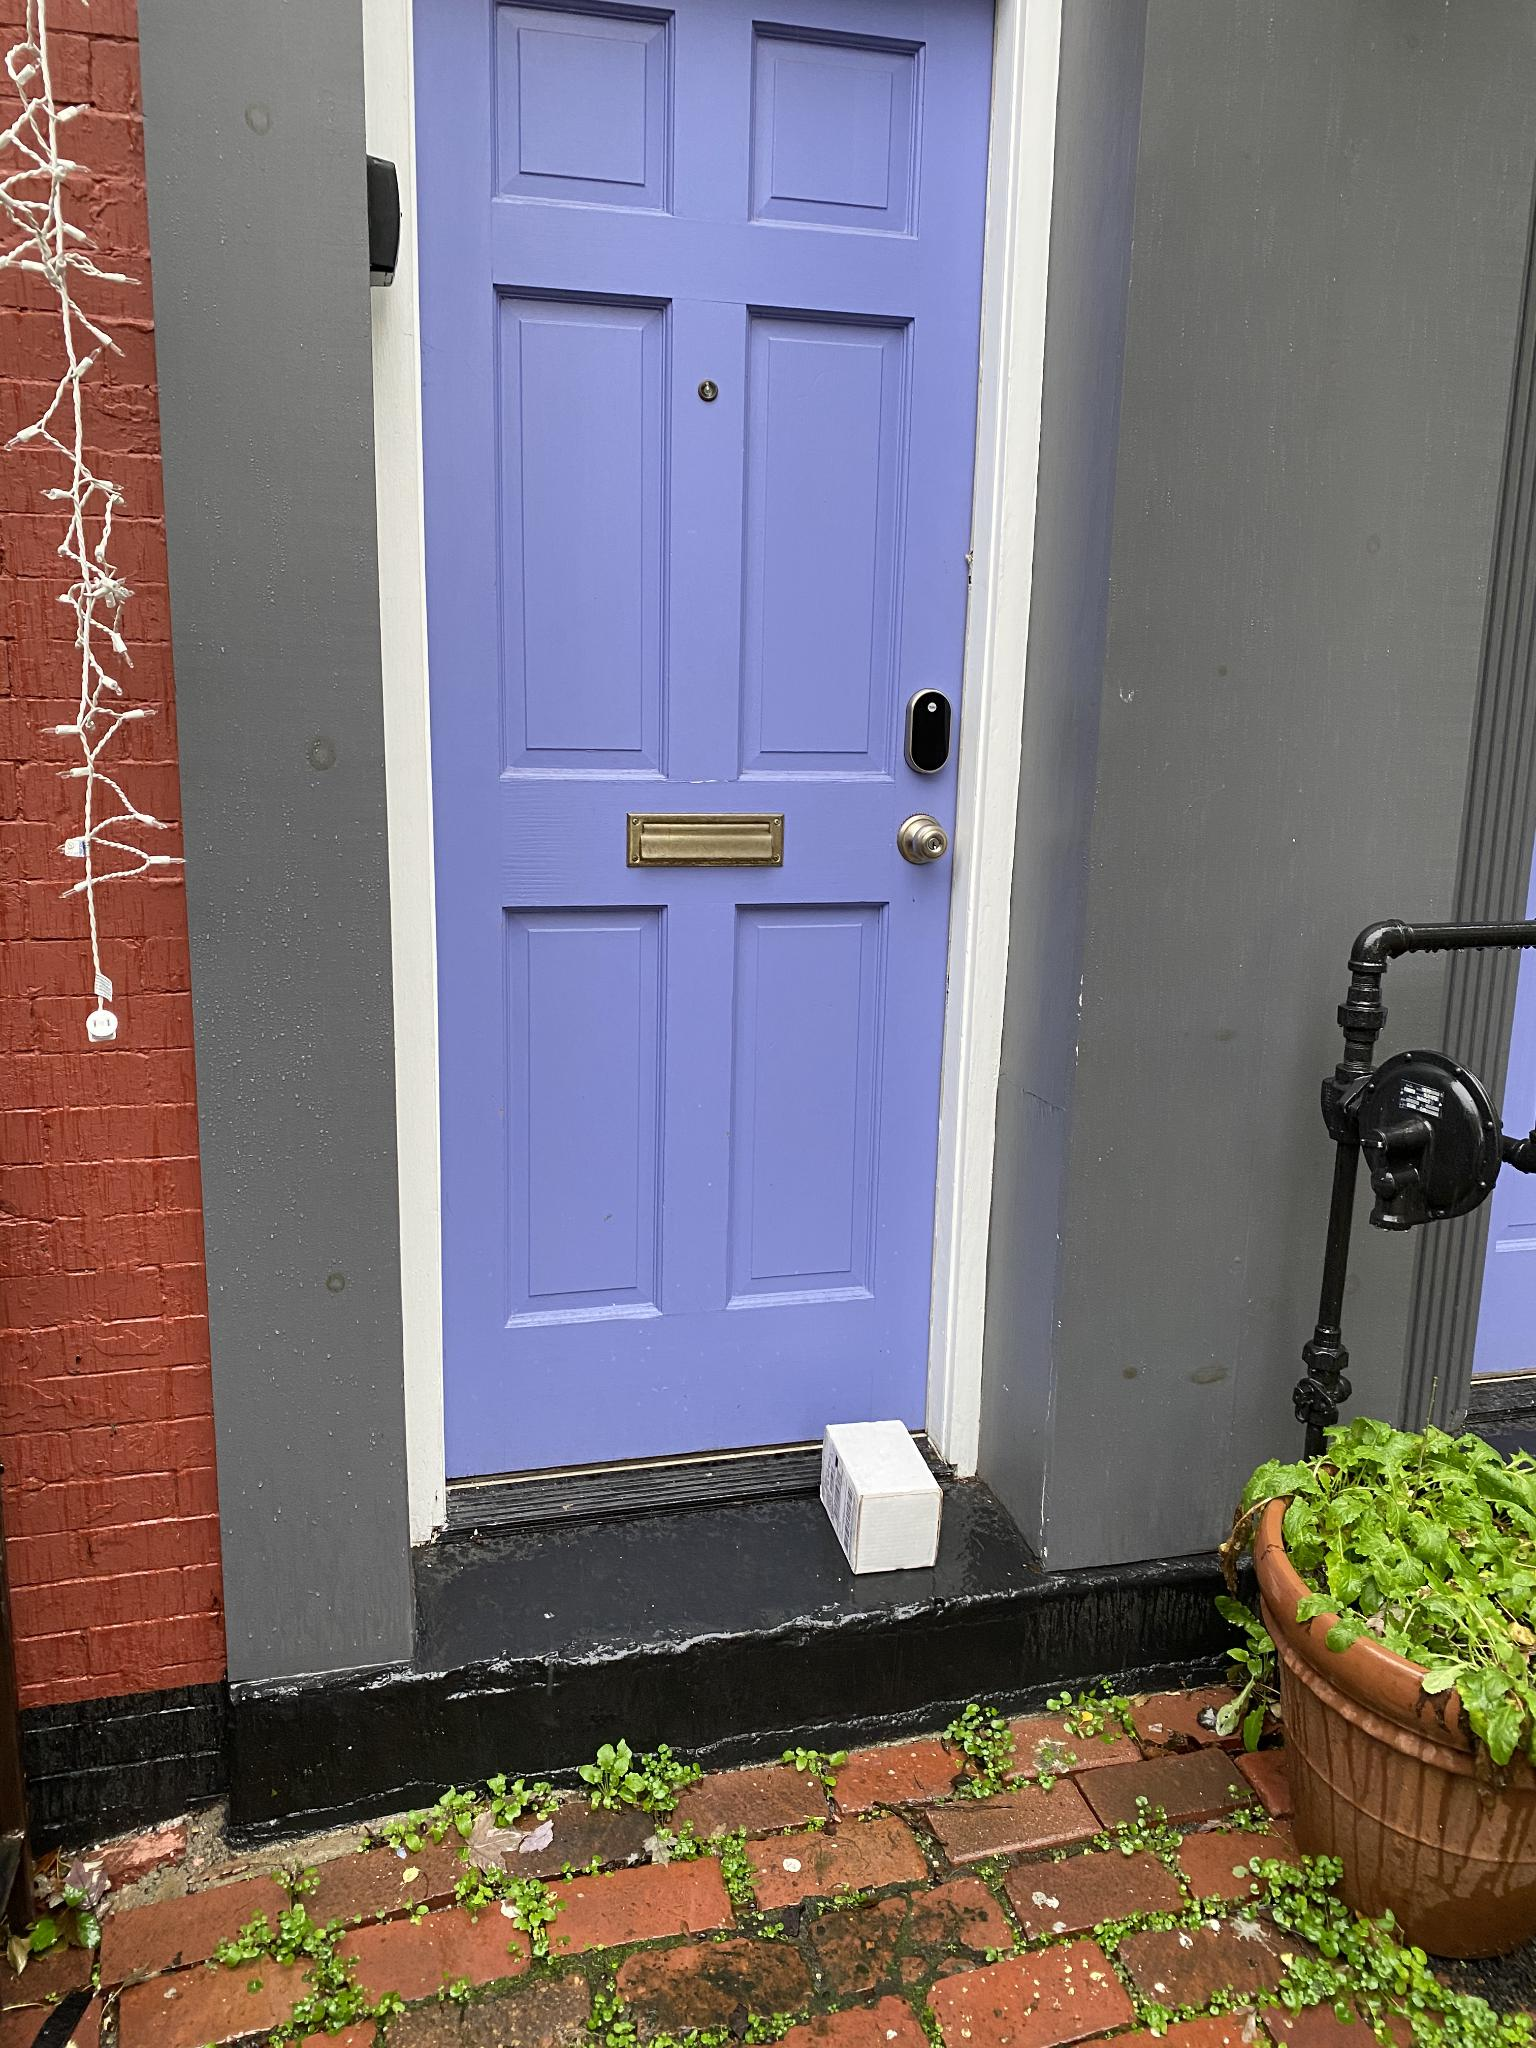package: (805, 1414, 952, 1580)
